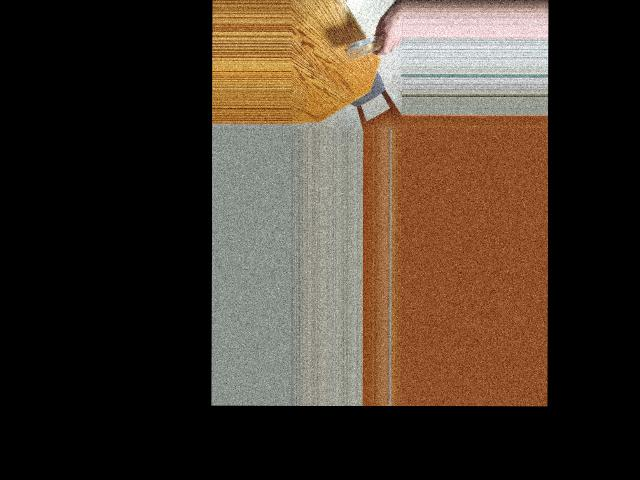cheese: (351, 34, 383, 62)
